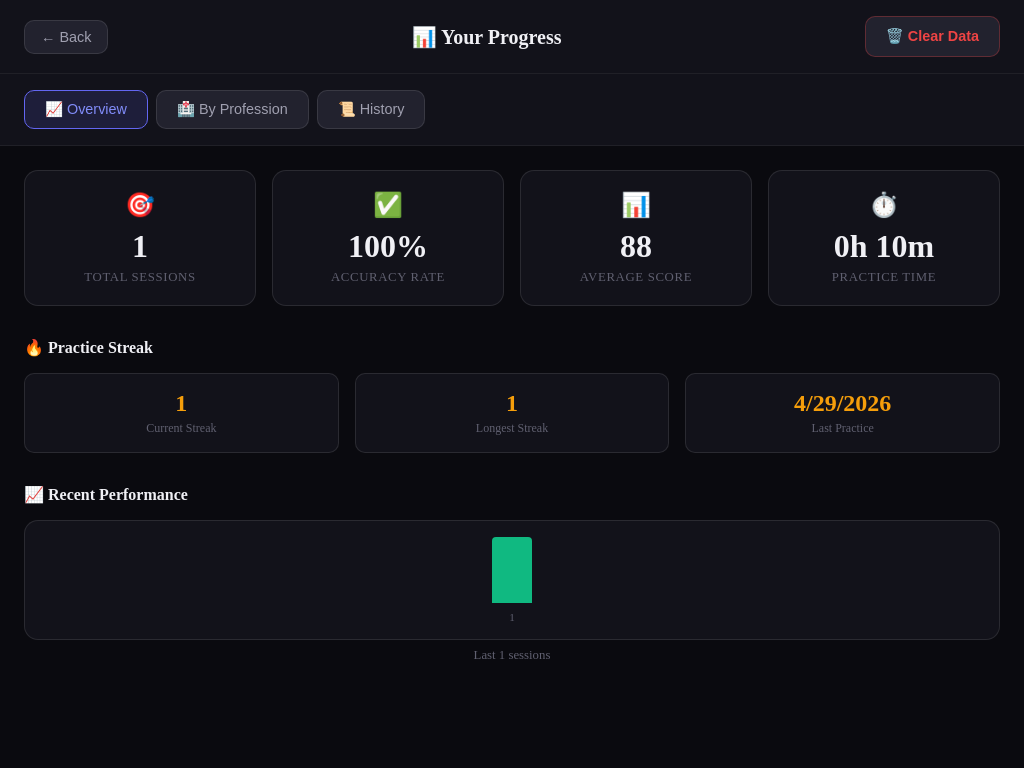
Scenario: ProgressScreen › falls back for unknown profession records
Click the button "📜 History". click: (371, 110)
box: [317,90,426,129]
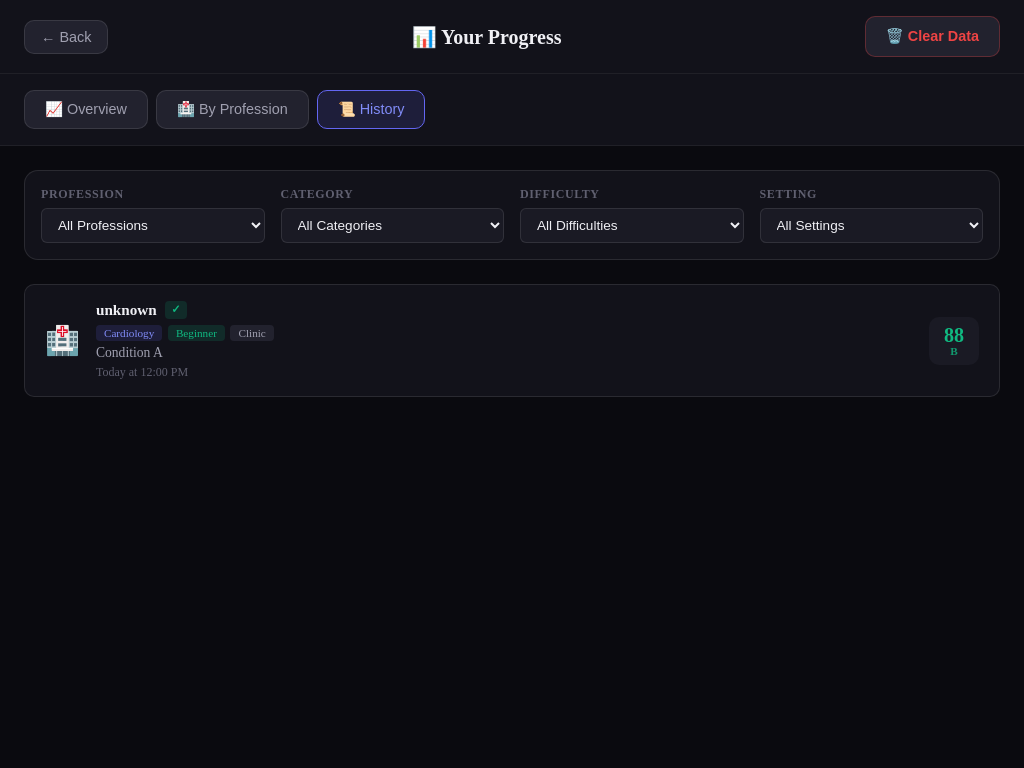
Check: the text "unknown" is shown, box [96,301,157,318]
Check: the icon "🏥" is shown, box [45,324,80,357]
